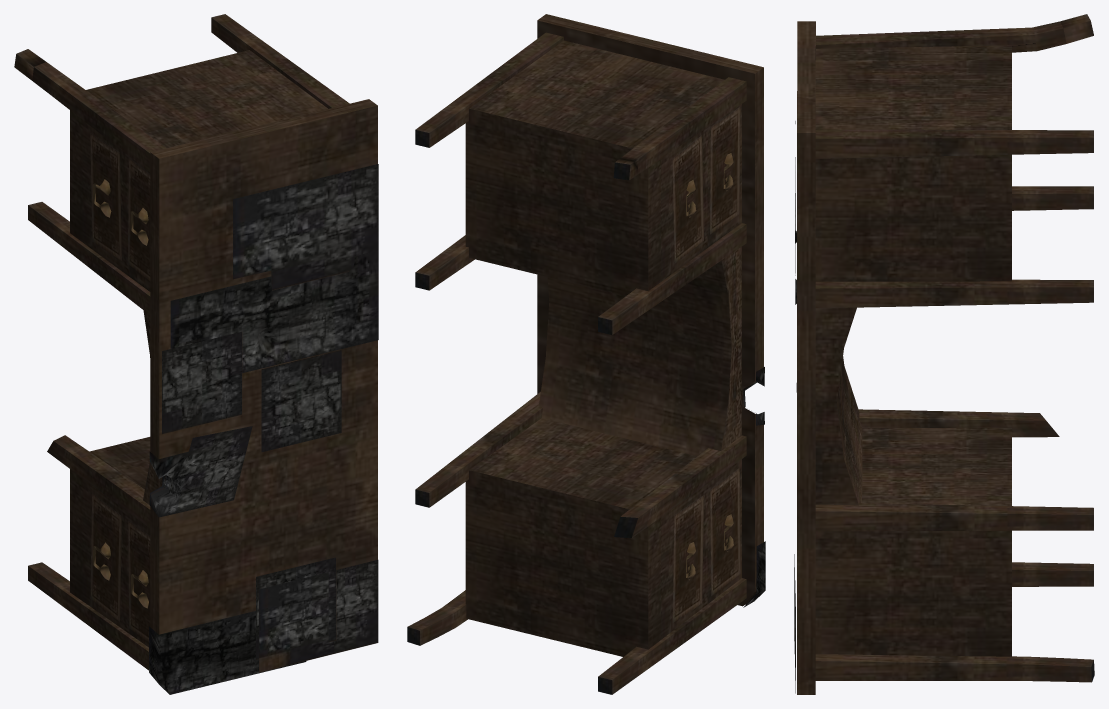
The model's file is furniture_desk_d_a.glb.
The picture shows the model from 3 angles, left to right: view 1: azimuth 30°, elevation 25°; view 2: azimuth 150°, elevation 25°; view 3: azimuth 270°, elevation 25°; orthographic projection. The views are drawn at different scales.
Size of the model in its own units: 32.96 by 76.64 by 36.65.
Materials: 1 (1 with a texture image).
